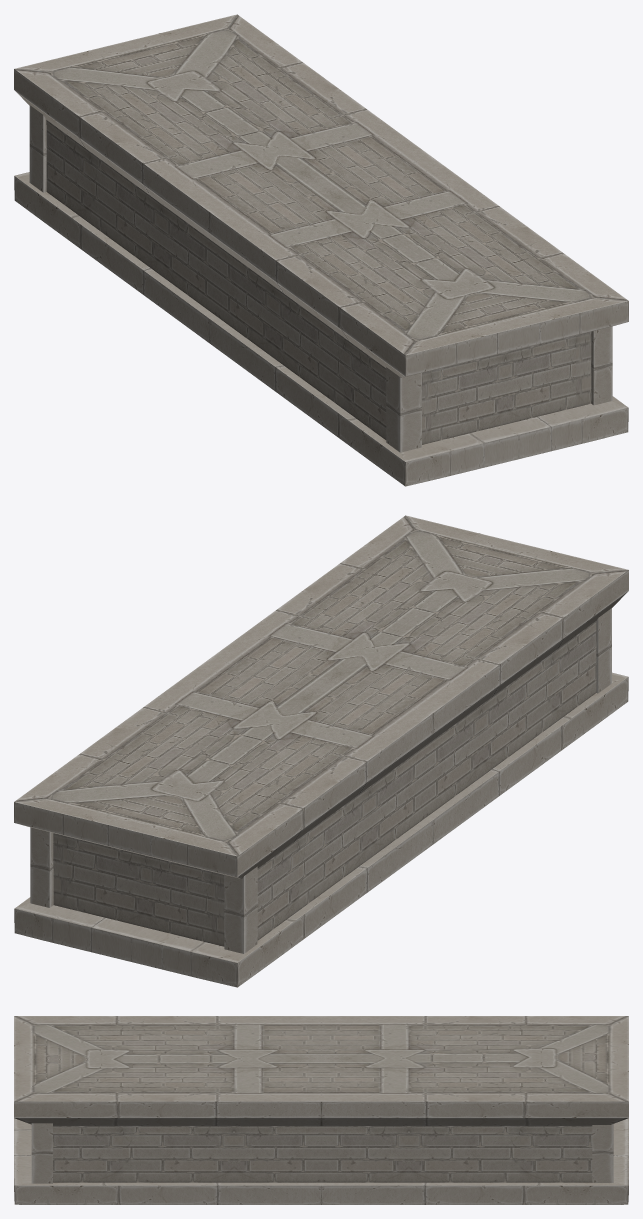
Rendered from mod_zlc_jianzhu088_xy.FBX.
The picture shows the model from 3 angles, top to bottom: view 1: azimuth 30°, elevation 25°; view 2: azimuth 150°, elevation 25°; view 3: azimuth 270°, elevation 25°; orthographic projection. The views are drawn at different scales.
Parts seen in each view (by area): view 1: mod_zlc_jianzhu036_xy; view 2: mod_zlc_jianzhu036_xy; view 3: mod_zlc_jianzhu036_xy.
Boxes of the visible parts, <box> form: mod_zlc_jianzhu036_xy: <box>14,14,628,486</box>; mod_zlc_jianzhu036_xy: <box>14,515,628,987</box>; mod_zlc_jianzhu036_xy: <box>14,1016,628,1204</box>.
Size of the model in its own units: 6.89 by 3.87 by 20.92.
1 material, 1 textured.
